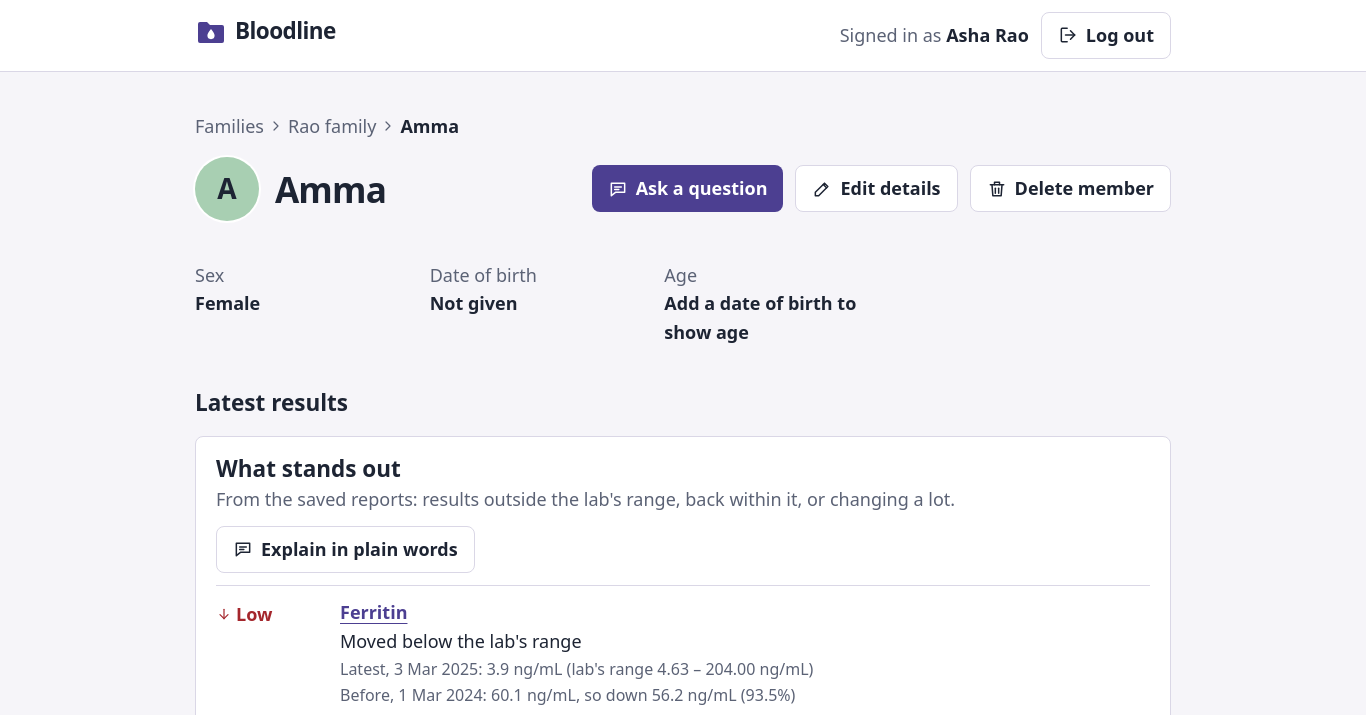
what stands out on a member’s page › shows why explaining failed, and tries again
Click the button "Explain in plain words" at x=345, y=549, box [216, 526, 475, 573]
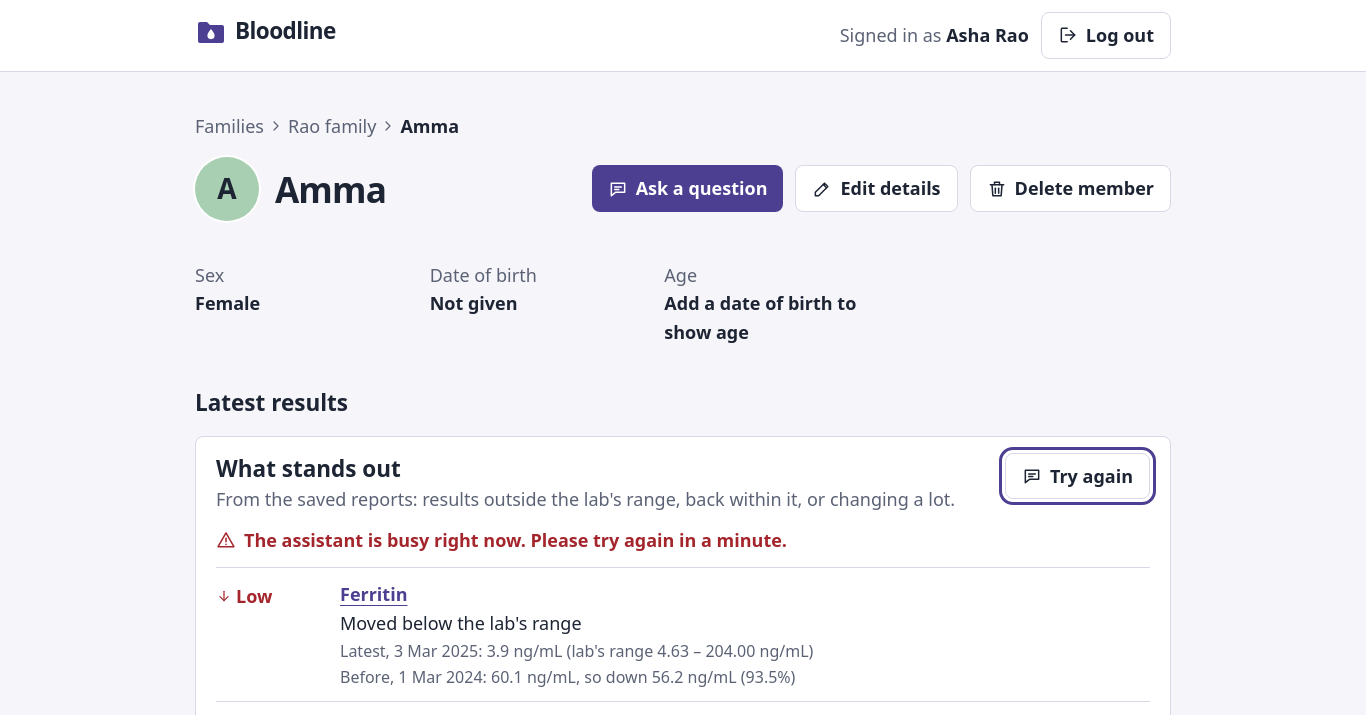
Expected: the message reads "The assistant is busy right now. Please try again in a minute.", [244, 528, 787, 552]
Click the button "Try again" at x=1077, y=476, box [1005, 453, 1150, 499]
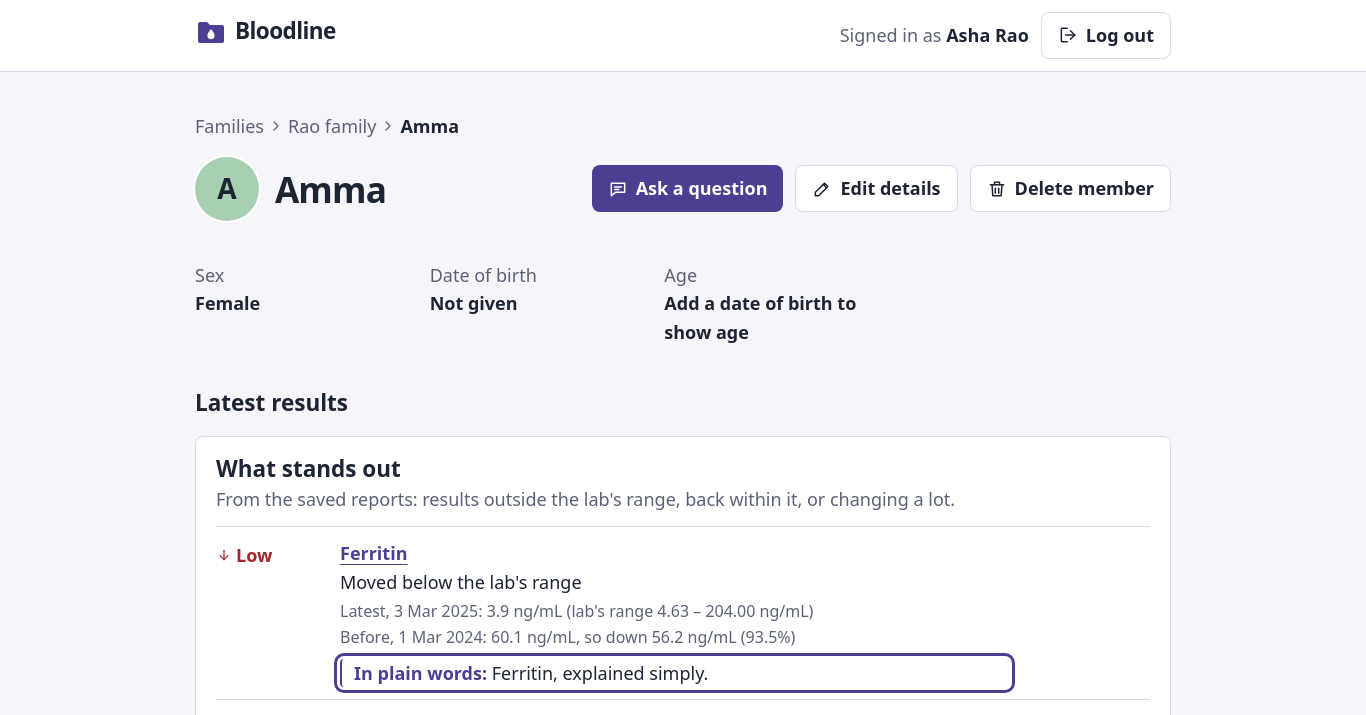
Expected: the text "Ferritin, explained simply." is shown, [492, 661, 708, 685]
Expected: the message "The assistant is busy right now. Please try again in a minute." is gone
